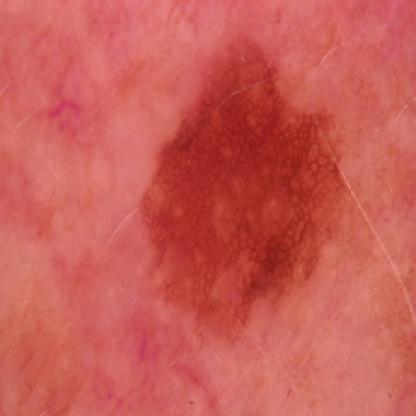benign: (139, 46, 362, 329)
